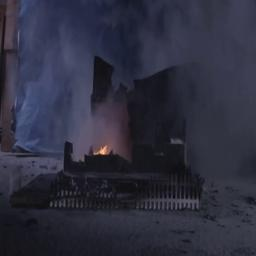fire: (86, 138, 124, 167)
smoke: (21, 2, 253, 134)
